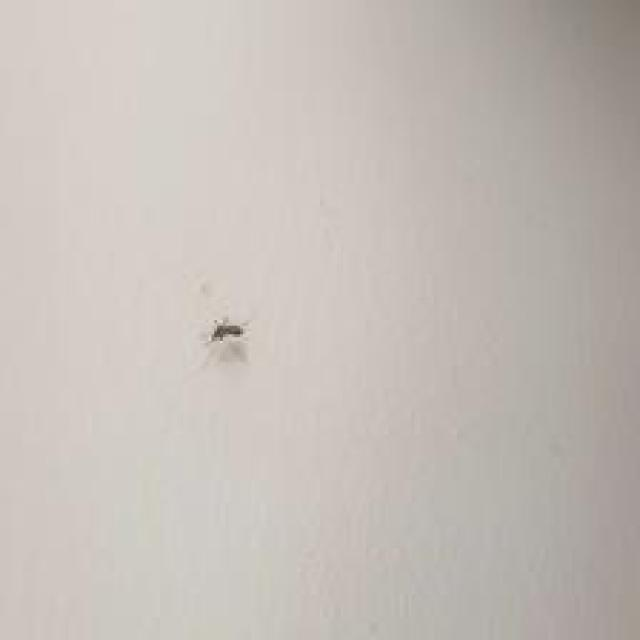Culex: (207, 314, 250, 343)
